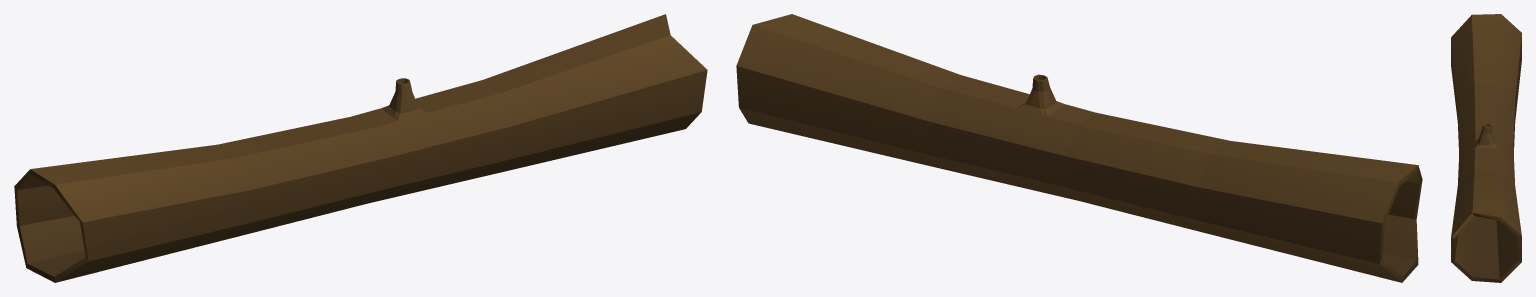
Rendered from Summer_Log_03.glb.
The picture shows the model from 3 angles, left to right: view 1: azimuth 30°, elevation 25°; view 2: azimuth 150°, elevation 25°; view 3: azimuth 270°, elevation 25°; orthographic projection. The views are drawn at different scales.
Visible parts, largest first — view 1: Summer_Log_03_LOD0; view 2: Summer_Log_03_LOD0; view 3: Summer_Log_03_LOD0.
Boxes of the visible parts, x1,y1,x2,y2 form: Summer_Log_03_LOD0: (14, 14, 707, 282); Summer_Log_03_LOD0: (736, 14, 1422, 282); Summer_Log_03_LOD0: (1451, 14, 1521, 282).
Size of what is drawn, in the model's own units: 2.18 by 0.3409 by 0.3168.
Materials: 1 (1 with a texture image).
